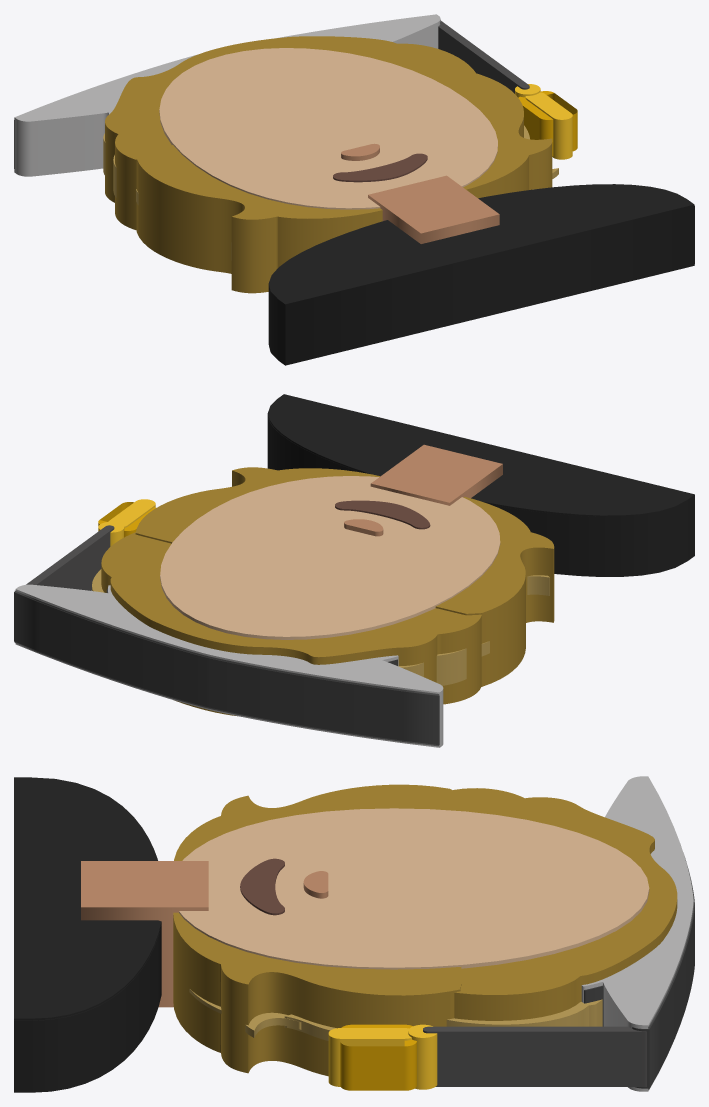
The model's file is emoji_u1f9d1_1f3fc_200d_1f393.glb.
The picture shows the model from 3 angles, top to bottom: view 1: azimuth 30°, elevation 25°; view 2: azimuth 150°, elevation 25°; view 3: azimuth 270°, elevation 25°; orthographic projection. The views are drawn at different scales.
Parts seen in each view (by area): view 1: emoji_u1f9d1_1f3fc_200d_1f393; view 2: emoji_u1f9d1_1f3fc_200d_1f393; view 3: emoji_u1f9d1_1f3fc_200d_1f393.
Boxes of the visible parts, <box> form: emoji_u1f9d1_1f3fc_200d_1f393: <box>14,14,694,365</box>; emoji_u1f9d1_1f3fc_200d_1f393: <box>14,394,694,747</box>; emoji_u1f9d1_1f3fc_200d_1f393: <box>14,776,694,1092</box>.
Size of the model in its own units: 0.03 by 0.0056 by 0.0334.
